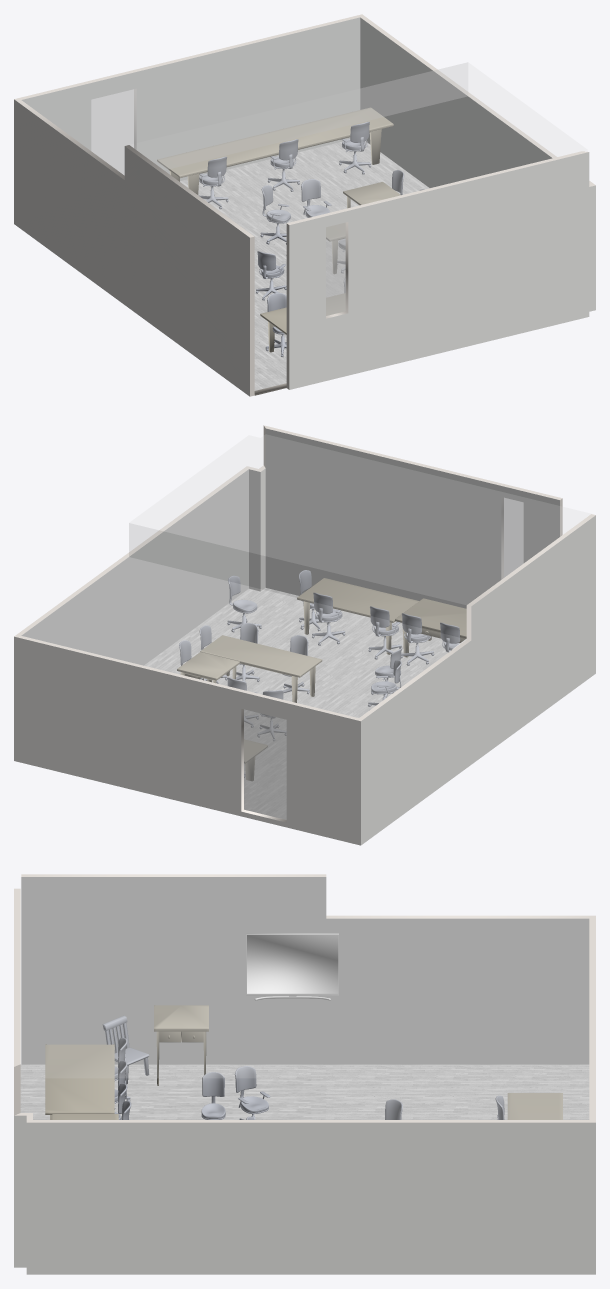
File: A class room.fbx
3 views of the same model, one above another, from view 1: azimuth 30°, elevation 25°; view 2: azimuth 150°, elevation 25°; view 3: azimuth 270°, elevation 25° (orthographic). The views are drawn at different scales.
Parts seen in each view (by area): view 1: node_0741732b_b820_420a_a208_2911fac9c29a_mesh0, node_0ace5aa2_c71e_4dad_a97a_009688439fdd_mesh0, node_5399e07a_ff70_4a89_bff8_5b3d8abd0659_mesh0, node_8dc57204_f44b_49a2_ad84_e4eb5288e7a4_mesh0, node_5643719d_80fd_4b09_8f4b_c1068392281d_mesh0, node_37363335_ebbf_41c1_bf58_0e693354c991_mesh0, node_a1be0d57_5eba_485b_9aaf_54f1df81386c_mesh0, node_17d93e6f_4131_4643_85bc_6f5f55074249_mesh0, node_030f2cef_84c4_4d62_8422_e877426c0e37_mesh0, node_4698e090_7220_43ec_bfb4_f94c95585dd7_mesh0, node_73051c3a_7902_4b24_b0f7_5980647ac293_mesh0, node_34ef0e34_8be6_4466_ac38_59d3673eff57_mesh0 (+17 smaller); view 2: node_0ace5aa2_c71e_4dad_a97a_009688439fdd_mesh0, node_6b6a752c_b957_4be2_806c_e98bac876ce0_mesh0, node_8dc57204_f44b_49a2_ad84_e4eb5288e7a4_mesh0, node_7bd27d2d_35bf_4f90_8d45_98cdb3cfd9c6_mesh0, node_5399e07a_ff70_4a89_bff8_5b3d8abd0659_mesh0, node_37363335_ebbf_41c1_bf58_0e693354c991_mesh0, node_a1be0d57_5eba_485b_9aaf_54f1df81386c_mesh0, node_17d93e6f_4131_4643_85bc_6f5f55074249_mesh0, node_4698e090_7220_43ec_bfb4_f94c95585dd7_mesh0, node_73051c3a_7902_4b24_b0f7_5980647ac293_mesh0, node_f49333e1_07ae_4d60_9374_0a49ecbdf862_mesh0, node_ab799cee_8bfa_4d54_bdb4_93b2d735cfa2_mesh0 (+15 smaller); view 3: node_a9fc9210_581b_4950_85ba_a921a8d37a60_mesh0, node_b873e556_569e_49da_9d8d_f79fed323253_mesh0, node_0ace5aa2_c71e_4dad_a97a_009688439fdd_mesh0, node_8dc57204_f44b_49a2_ad84_e4eb5288e7a4_mesh0, node_a1be0d57_5eba_485b_9aaf_54f1df81386c_mesh0, node_4b34489d_7b3e_4145_9310_bc2739cfac34_mesh0, node_04223fd9_b995_4089_9e97_71dcdf37cbfa_mesh0, node_75d5f42a_289e_4c6c_8355_dc86d6b191c2_mesh0, node_c428e3a3_3342_4b58_b635_3564ce029793_mesh0, node_50456861_734b_40f4_9d5a_79852fc531e2_mesh0, node_072bfc15_3b11_4fc5_b1f0_f0ad8072a43e_mesh0, node_030f2cef_84c4_4d62_8422_e877426c0e37_mesh0 (+5 smaller).
Part boxes in pixels (left/top/right/bottom): node_0741732b_b820_420a_a208_2911fac9c29a_mesh0: left=289, top=152, right=589, bottom=389; node_0ace5aa2_c71e_4dad_a97a_009688439fdd_mesh0: left=131, top=63, right=586, bottom=235; node_5399e07a_ff70_4a89_bff8_5b3d8abd0659_mesh0: left=14, top=99, right=249, bottom=396; node_8dc57204_f44b_49a2_ad84_e4eb5288e7a4_mesh0: left=22, top=18, right=431, bottom=174; node_5643719d_80fd_4b09_8f4b_c1068392281d_mesh0: left=21, top=17, right=360, bottom=180; node_37363335_ebbf_41c1_bf58_0e693354c991_mesh0: left=360, top=17, right=552, bottom=187; node_a1be0d57_5eba_485b_9aaf_54f1df81386c_mesh0: left=180, top=141, right=429, bottom=390; node_17d93e6f_4131_4643_85bc_6f5f55074249_mesh0: left=131, top=63, right=467, bottom=169; node_030f2cef_84c4_4d62_8422_e877426c0e37_mesh0: left=157, top=107, right=393, bottom=194; node_4698e090_7220_43ec_bfb4_f94c95585dd7_mesh0: left=91, top=89, right=136, bottom=174; node_73051c3a_7902_4b24_b0f7_5980647ac293_mesh0: left=91, top=89, right=136, bottom=174; node_34ef0e34_8be6_4466_ac38_59d3673eff57_mesh0: left=326, top=223, right=345, bottom=315; node_0ace5aa2_c71e_4dad_a97a_009688439fdd_mesh0: left=130, top=435, right=589, bottom=604; node_6b6a752c_b957_4be2_806c_e98bac876ce0_mesh0: left=14, top=636, right=360, bottom=845; node_8dc57204_f44b_49a2_ad84_e4eb5288e7a4_mesh0: left=22, top=557, right=465, bottom=717; node_7bd27d2d_35bf_4f90_8d45_98cdb3cfd9c6_mesh0: left=265, top=428, right=559, bottom=608; node_5399e07a_ff70_4a89_bff8_5b3d8abd0659_mesh0: left=361, top=515, right=595, bottom=845; node_37363335_ebbf_41c1_bf58_0e693354c991_mesh0: left=21, top=469, right=248, bottom=665; node_a1be0d57_5eba_485b_9aaf_54f1df81386c_mesh0: left=144, top=588, right=448, bottom=819; node_17d93e6f_4131_4643_85bc_6f5f55074249_mesh0: left=129, top=523, right=465, bottom=638; node_4698e090_7220_43ec_bfb4_f94c95585dd7_mesh0: left=244, top=709, right=286, bottom=819; node_73051c3a_7902_4b24_b0f7_5980647ac293_mesh0: left=244, top=710, right=286, bottom=819; node_f49333e1_07ae_4d60_9374_0a49ecbdf862_mesh0: left=200, top=635, right=322, bottom=702; node_ab799cee_8bfa_4d54_bdb4_93b2d735cfa2_mesh0: left=297, top=578, right=418, bottom=654; node_a9fc9210_581b_4950_85ba_a921a8d37a60_mesh0: left=26, top=1122, right=595, bottom=1274; node_b873e556_569e_49da_9d8d_f79fed323253_mesh0: left=21, top=877, right=589, bottom=1064; node_0ace5aa2_c71e_4dad_a97a_009688439fdd_mesh0: left=22, top=877, right=325, bottom=1077; node_8dc57204_f44b_49a2_ad84_e4eb5288e7a4_mesh0: left=327, top=919, right=588, bottom=1119; node_a1be0d57_5eba_485b_9aaf_54f1df81386c_mesh0: left=20, top=1064, right=589, bottom=1119; node_4b34489d_7b3e_4145_9310_bc2739cfac34_mesh0: left=246, top=933, right=338, bottom=1000; node_04223fd9_b995_4089_9e97_71dcdf37cbfa_mesh0: left=45, top=1044, right=114, bottom=1119; node_75d5f42a_289e_4c6c_8355_dc86d6b191c2_mesh0: left=154, top=1005, right=208, bottom=1085; node_c428e3a3_3342_4b58_b635_3564ce029793_mesh0: left=14, top=1115, right=26, bottom=1267; node_50456861_734b_40f4_9d5a_79852fc531e2_mesh0: left=21, top=874, right=595, bottom=918; node_072bfc15_3b11_4fc5_b1f0_f0ad8072a43e_mesh0: left=27, top=1120, right=594, bottom=1122; node_030f2cef_84c4_4d62_8422_e877426c0e37_mesh0: left=507, top=1093, right=562, bottom=1119.
Size of the model in its own units: 748 by 339 by 889.
10 materials, 1 textured.
